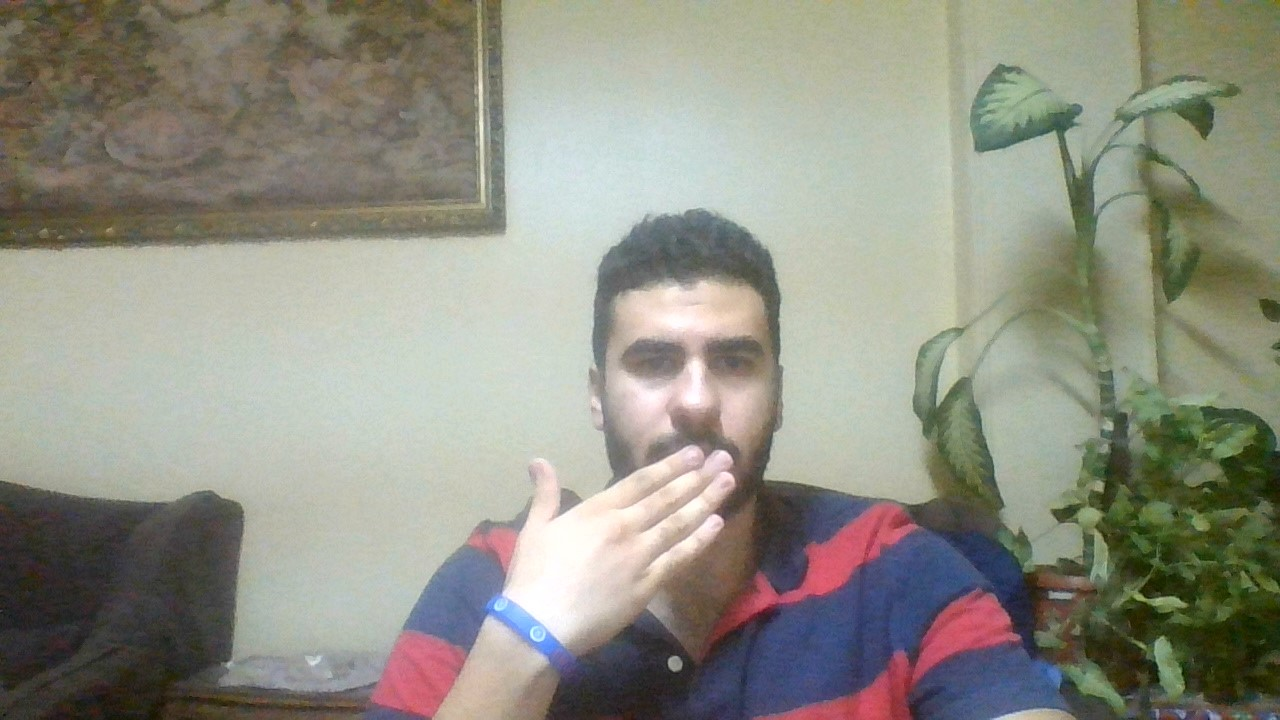thankyou: (518, 446, 741, 627)
